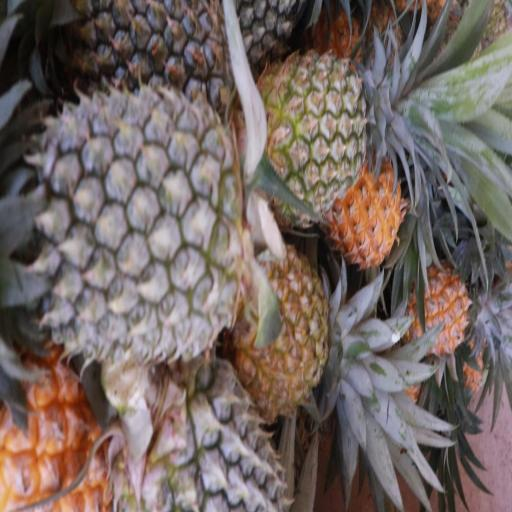------------------------------: (260, 56, 372, 204), (240, 249, 330, 405)
Pineapple - v8 v1: (337, 153, 407, 265), (405, 270, 474, 352)
